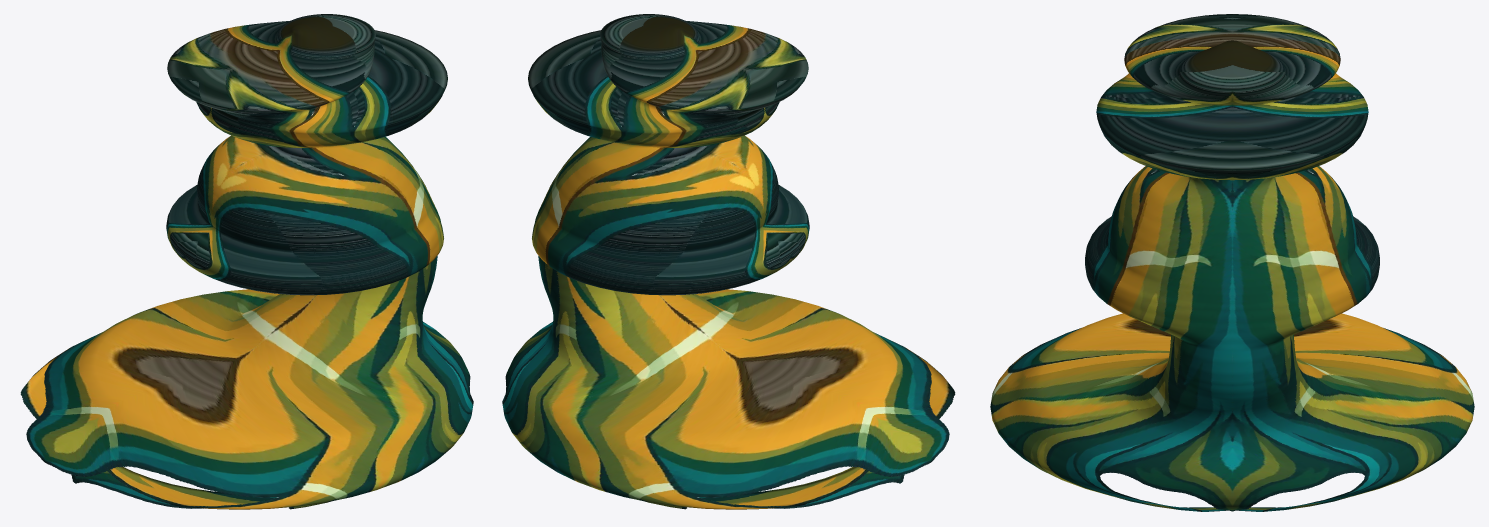
The model's file is root_tree.glb.
3 views of the same model, side by side, from view 1: azimuth 30°, elevation 25°; view 2: azimuth 150°, elevation 25°; view 3: azimuth 270°, elevation 25° (orthographic). The views are drawn at different scales.
Parts seen in each view (by area): view 1: root_tree; view 2: root_tree; view 3: root_tree.
Boxes of the visible parts, x1,y1,x2,y2 form: root_tree: (20, 14, 473, 509); root_tree: (502, 14, 955, 509); root_tree: (990, 14, 1474, 511).
Bounding box in the file's own units: 0.9948 × 0.9472 × 0.9731.
1 material, 1 textured.
